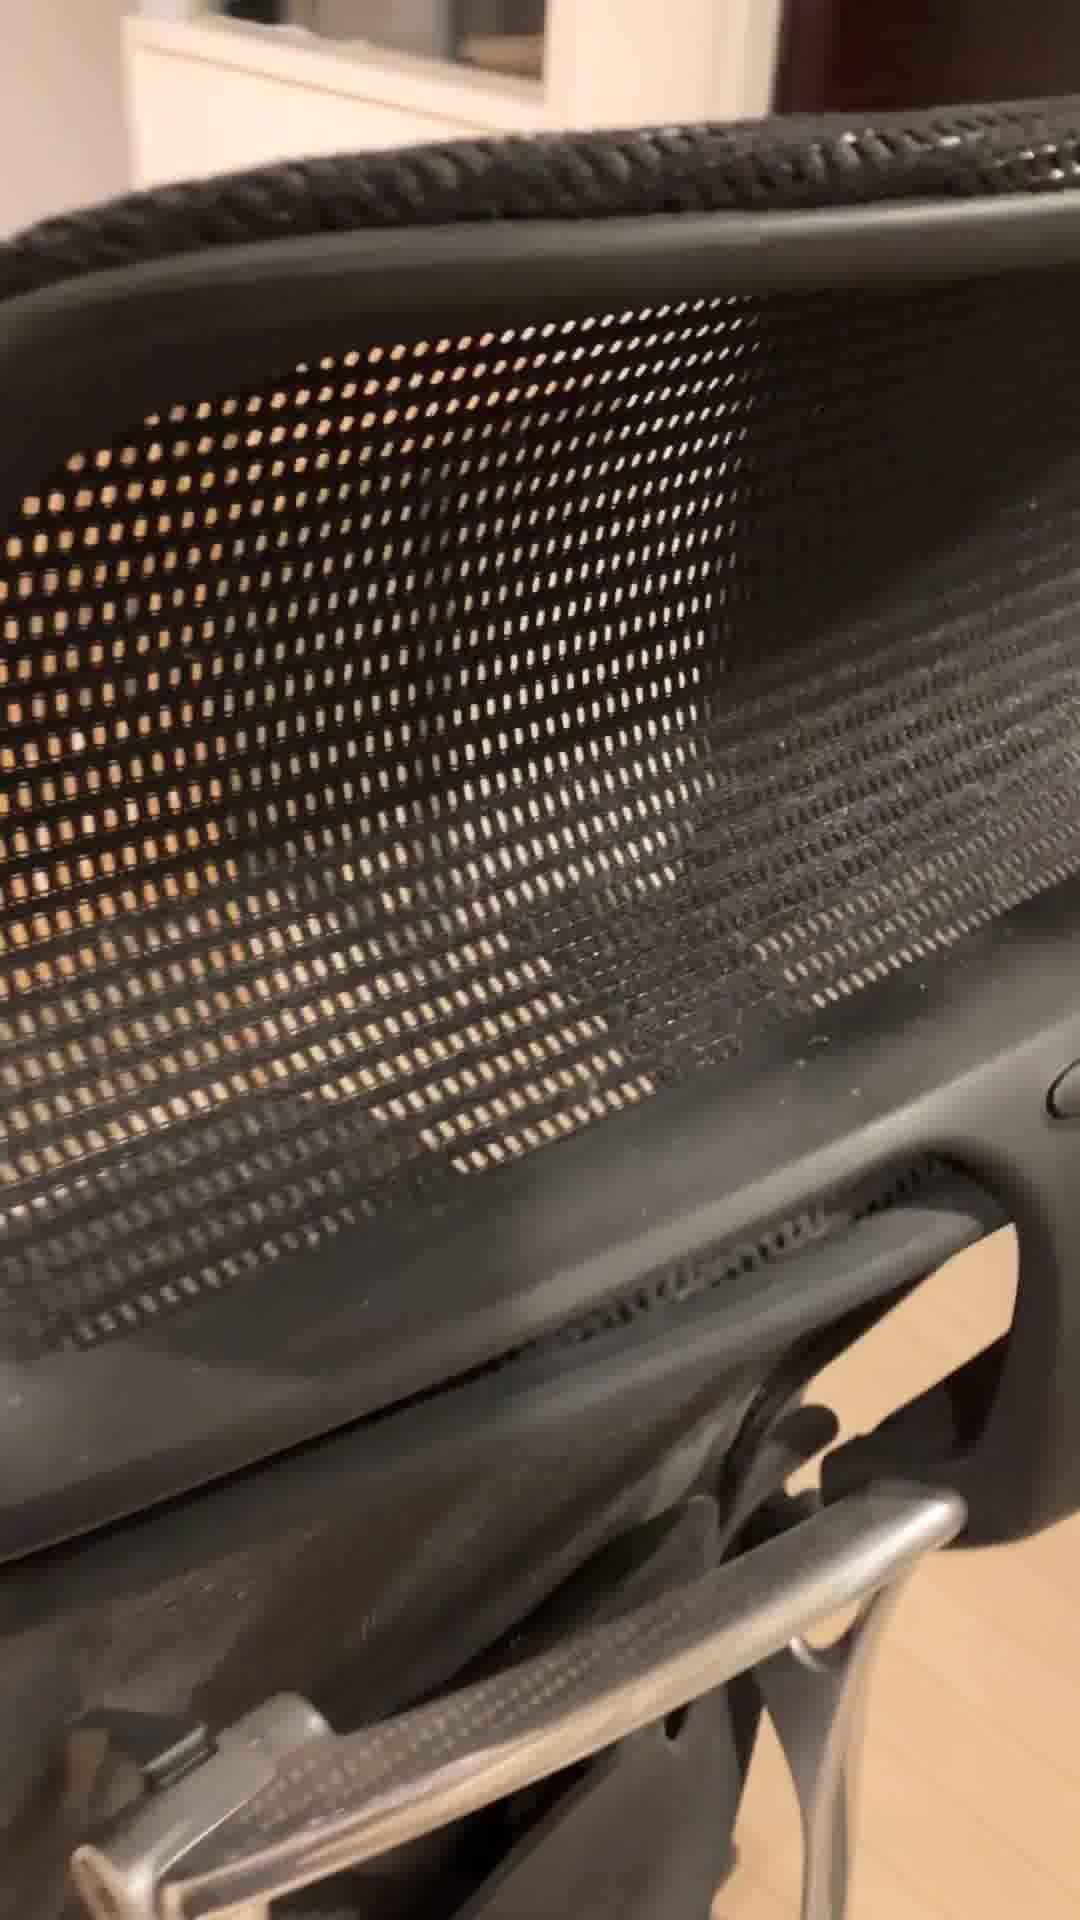okamura-contessa: (0, 82, 1080, 1920)
